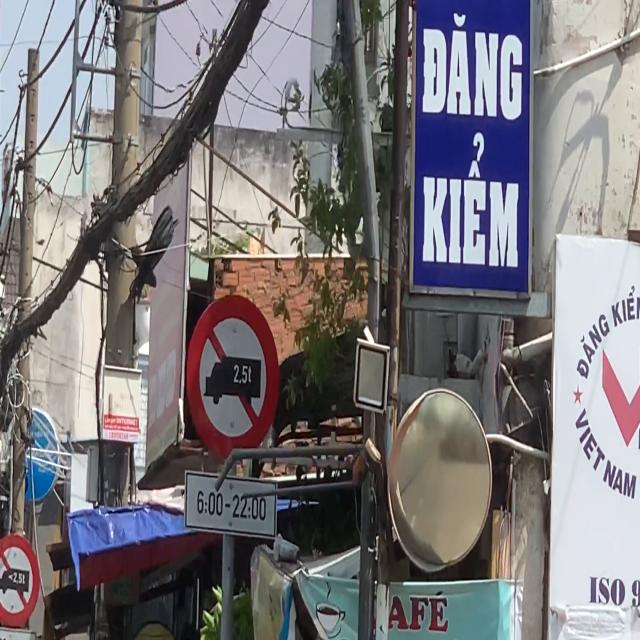Cam con lai: (185, 287, 279, 464), (0, 528, 41, 628)
